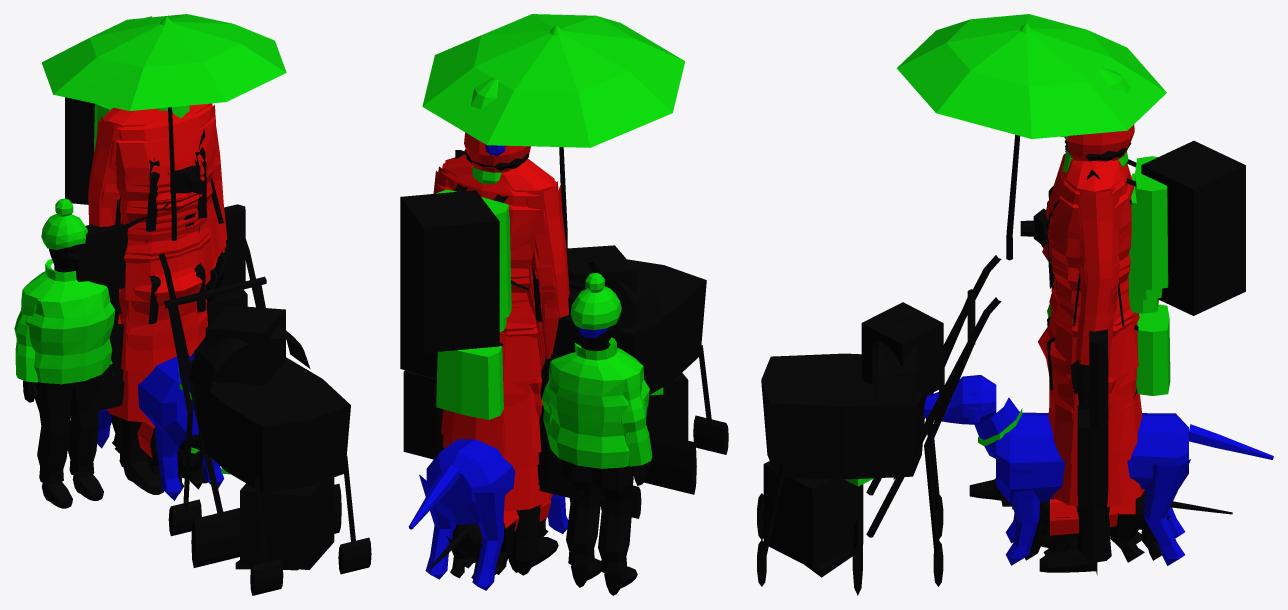
Rendered from people.glb.
3 renders of one model, left to right at view 1: azimuth 30°, elevation 25°; view 2: azimuth 150°, elevation 25°; view 3: azimuth 270°, elevation 25°, orthographic. The views are drawn at different scales.
Visible parts, largest first — view 1: stroller, parent_kid, umbrella, dolly, courier, parka, banker, kid, dog_lab, vendor, puffer, shopper (+4 smaller); view 2: umbrella, parent_kid, courier, stroller, parka, dog_lab, dolly, kid, shopper, banker, commuter, dog_dachshund (+6 smaller); view 3: stroller, umbrella, courier, dog_lab, dolly, parka, kid, banker, dog_pug, shopper, vendor, puffer (+4 smaller).
Part boxes in pixels (x1,y1,x2,y2): stroller: (114,192,371,595); parent_kid: (14,198,217,508); umbrella: (41,14,286,240); dolly: (128,234,341,570); courier: (65,97,226,455); parka: (88,16,227,481); banker: (69,103,226,494); kid: (107,263,207,478); dog_lab: (97,349,224,500); vendor: (111,156,224,455); puffer: (114,178,245,383); shopper: (99,270,247,405); umbrella: (422,14,685,253); parent_kid: (485,144,652,595); courier: (400,184,561,570); stroller: (443,149,728,570); parka: (433,77,569,569); dog_lab: (408,439,568,590); dolly: (567,245,696,494); kid: (436,343,552,572); shopper: (403,370,584,568); banker: (438,150,581,575); commuter: (441,388,541,569); dog_dachshund: (430,518,548,578); stroller: (757,153,1142,586); umbrella: (896,14,1166,260); courier: (1042,140,1245,546); dog_lab: (923,375,1273,565); dolly: (763,255,1001,595); parka: (1041,67,1168,575); kid: (1038,304,1170,548); banker: (1039,149,1131,574); dog_pug: (1039,489,1145,562); shopper: (1044,148,1137,546); vendor: (1043,140,1135,546); puffer: (1041,137,1130,546).
Size of the model in its own units: 1.01 by 2.05 by 1.81.
